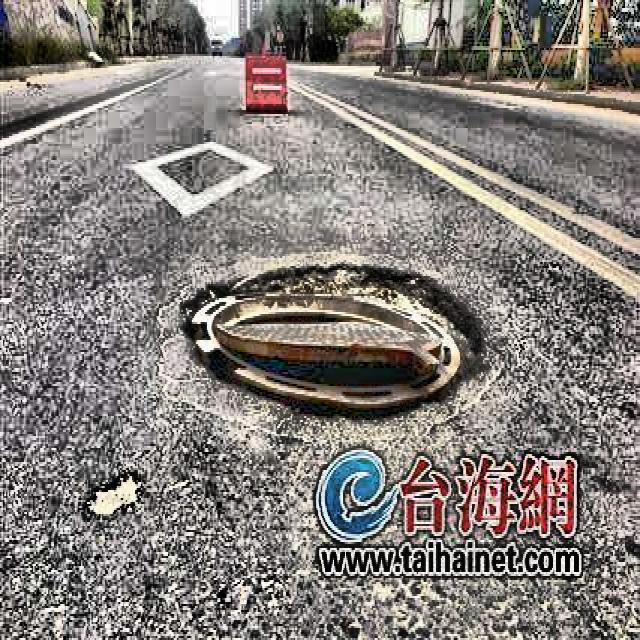open_manhole: (184, 266, 480, 412)
